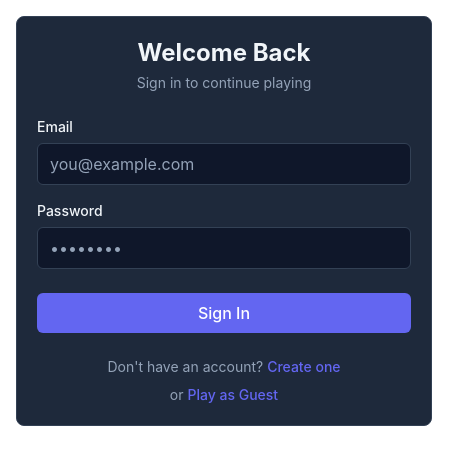
Scenario: LoginPage › shows field-level errors from API validation response
Type "bad@test.com" into the field labelled "Email" at point(224, 164), box [37, 143, 411, 185]
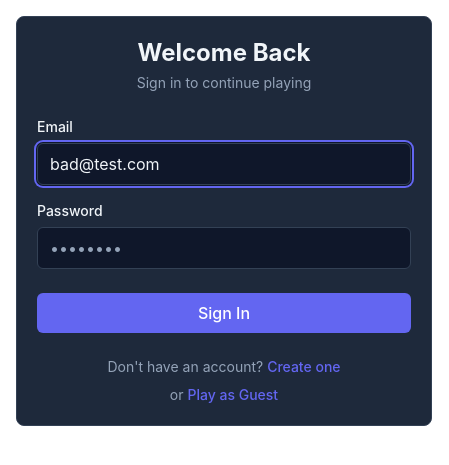
Type "wrongpass" into the password field labelled "Password" at point(224, 248), box [37, 227, 411, 269]
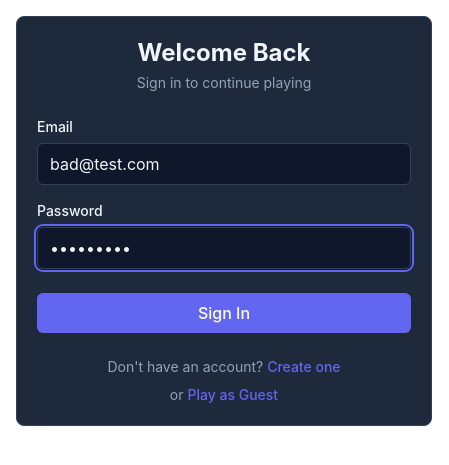
Click the button "Sign In" at point(224, 313), box [37, 293, 411, 333]
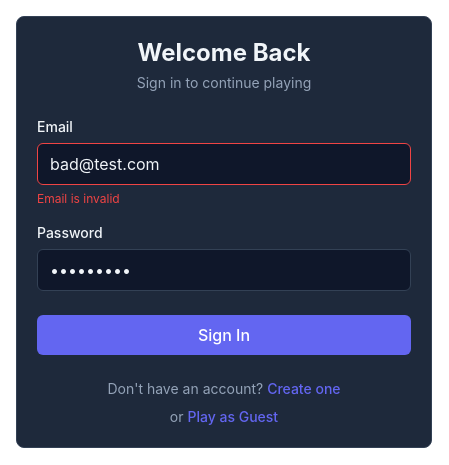
Now the text "Email is invalid" is shown, box [37, 191, 120, 206]
